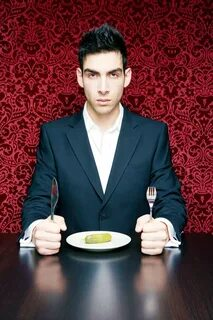awake: (20, 22, 190, 256)
